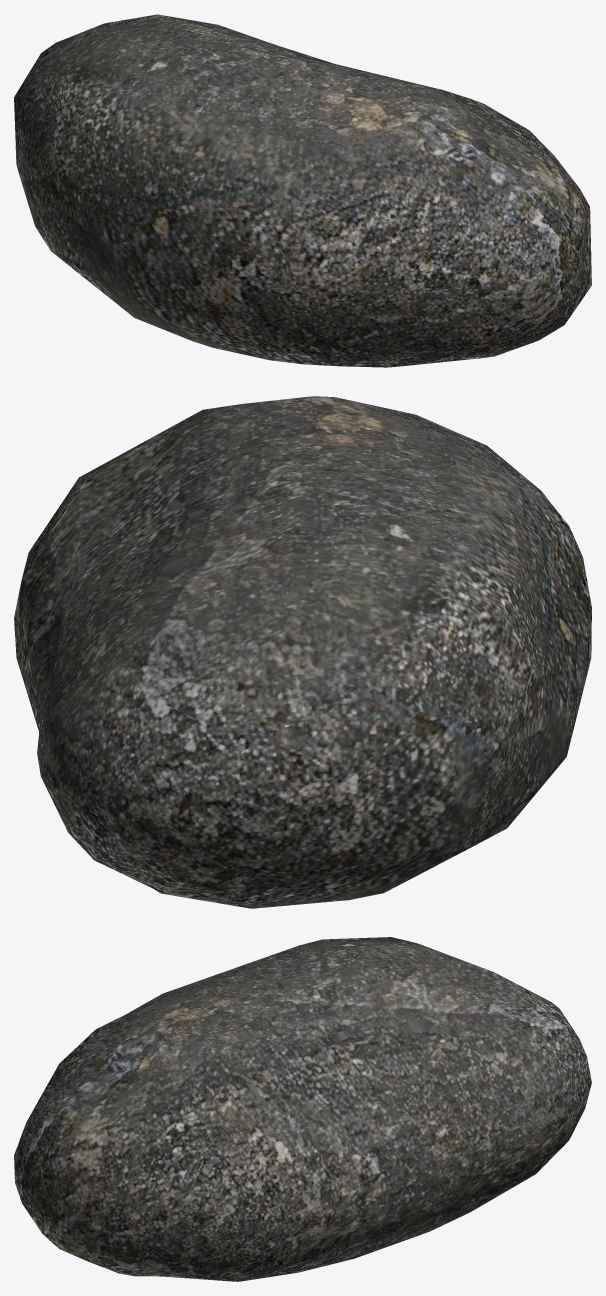
File: pebble-2.glb
The picture shows the model from 3 angles, top to bottom: view 1: azimuth 30°, elevation 25°; view 2: azimuth 150°, elevation 25°; view 3: azimuth 270°, elevation 25°; orthographic projection. The views are drawn at different scales.
Parts seen in each view (by area): view 1: tripo_node_3c70e1b2-f517-4ff0-a827-04f095e64d69; view 2: tripo_node_3c70e1b2-f517-4ff0-a827-04f095e64d69; view 3: tripo_node_3c70e1b2-f517-4ff0-a827-04f095e64d69.
Part boxes in pixels (x1,y1,x2,y2): tripo_node_3c70e1b2-f517-4ff0-a827-04f095e64d69: (14, 14, 591, 367); tripo_node_3c70e1b2-f517-4ff0-a827-04f095e64d69: (14, 396, 591, 908); tripo_node_3c70e1b2-f517-4ff0-a827-04f095e64d69: (14, 937, 591, 1281).
Size of the model in its own units: 0.4362 by 0.2571 by 0.5536.
Materials: 1 (1 with a texture image).
